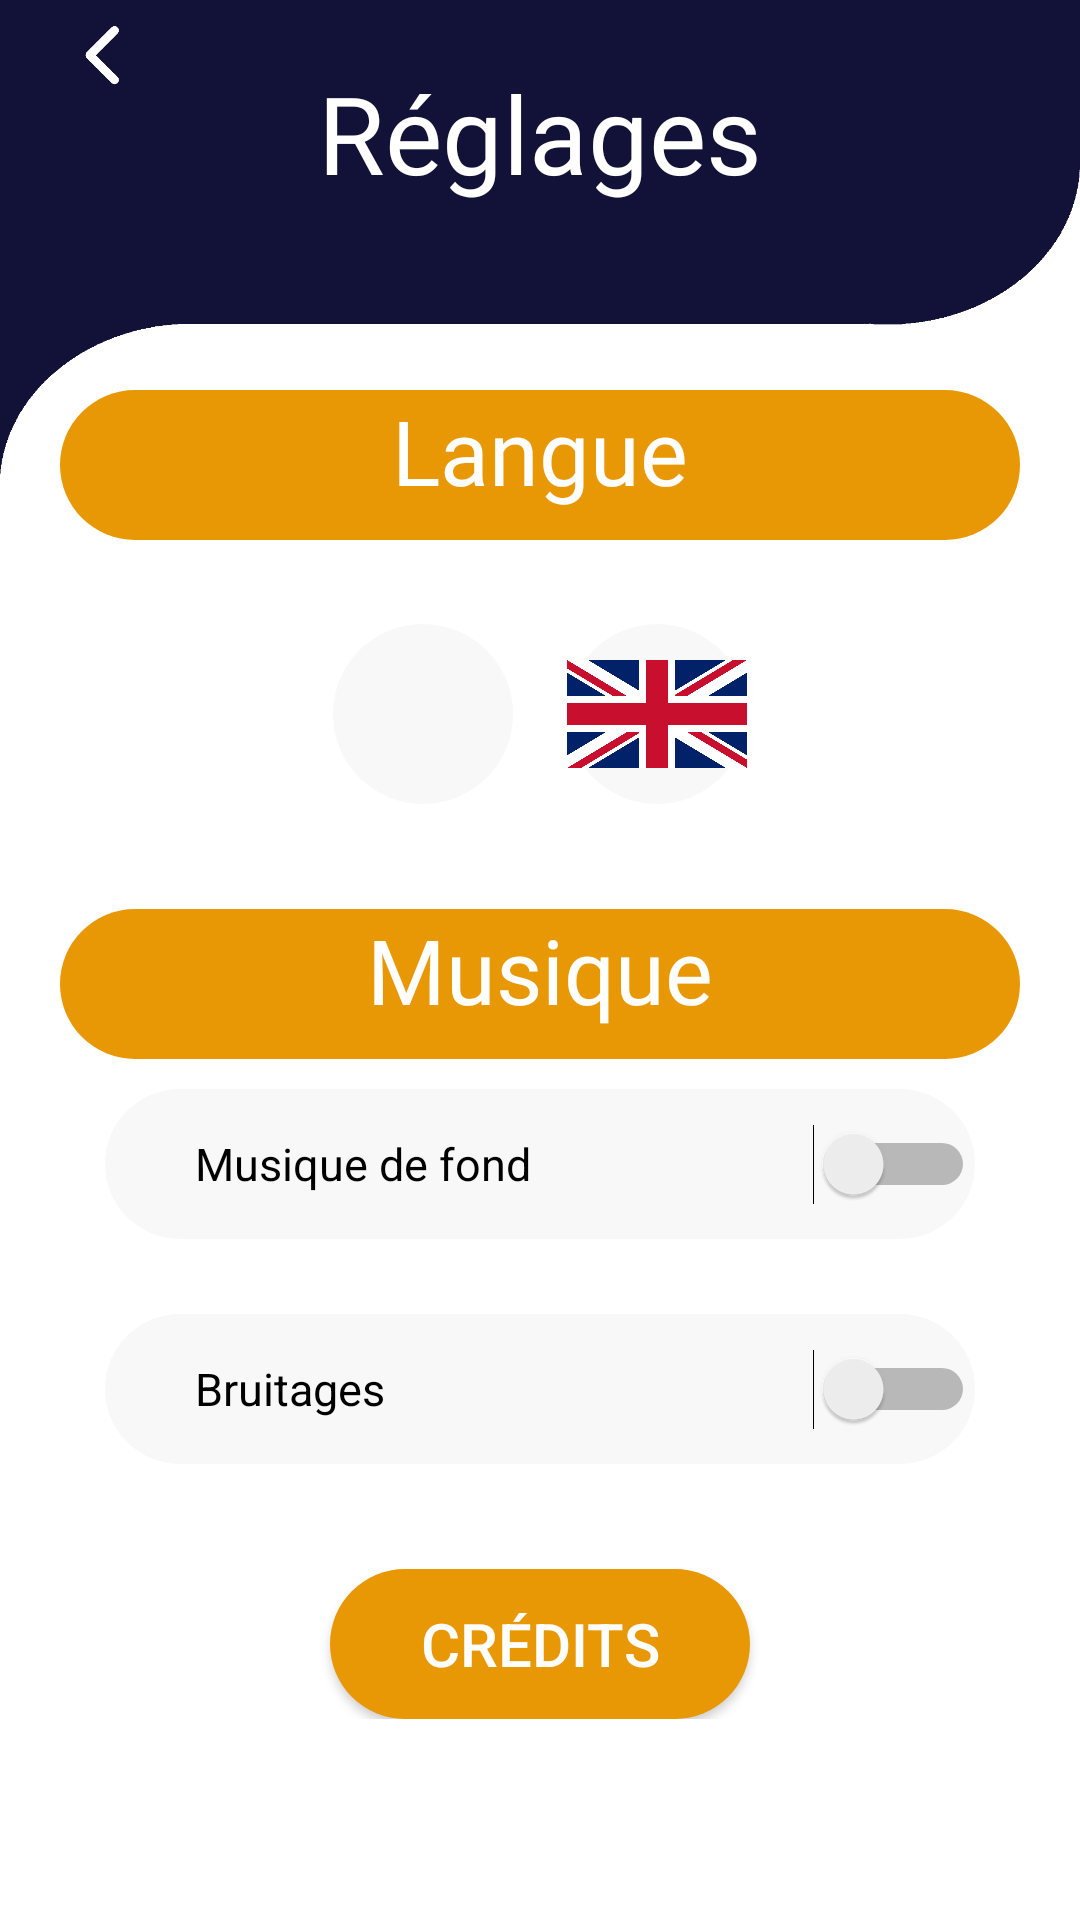

Icon bounding boxes for this 1080 × 1920 phone screenshot, format [x1=x1, y1=y1, x2=x2, y2=y2]:
retour: [x1=85, y1=26, x2=119, y2=85]
